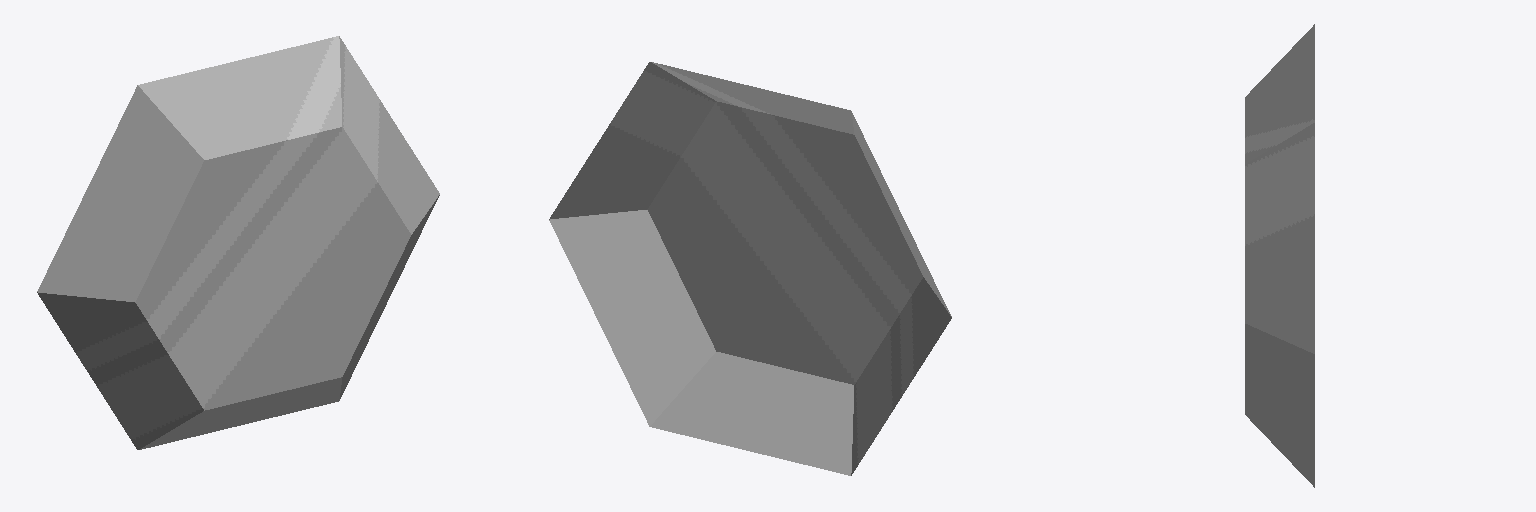
The picture shows the model from 3 angles: view 1: azimuth 30°, elevation 25°; view 2: azimuth 150°, elevation 25°; view 3: azimuth 270°, elevation 25°; orthographic projection.
Visible parts, largest first — view 1: hex; view 2: hex; view 3: hex.
Boxes of the visible parts, x1,y1,x2,y2 form: hex: [37, 36, 439, 449]; hex: [549, 62, 951, 475]; hex: [1245, 24, 1314, 487].
Bounding box in the file's own units: 2 × 1.73 × 0.3.
1 materials, 1 textured.